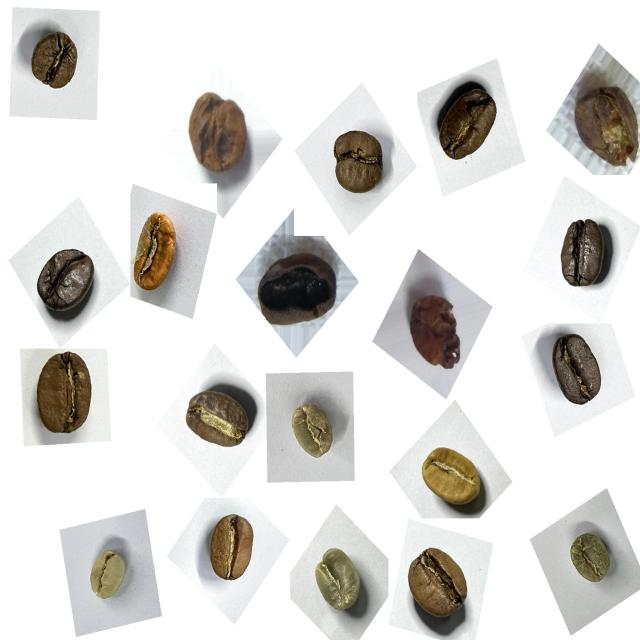bad: (250, 236, 346, 339), (176, 85, 257, 187), (564, 68, 638, 178), (397, 283, 471, 381)
dark: (29, 234, 107, 328), (544, 209, 618, 302), (542, 324, 615, 418)
green: (305, 542, 376, 628), (281, 392, 346, 472), (560, 523, 621, 597), (79, 539, 139, 611)
light: (125, 204, 192, 304), (414, 437, 494, 519)
medium: (22, 345, 108, 449), (399, 537, 479, 636), (425, 79, 506, 176), (174, 378, 258, 462), (323, 119, 394, 207), (197, 504, 266, 593), (22, 22, 91, 104)
